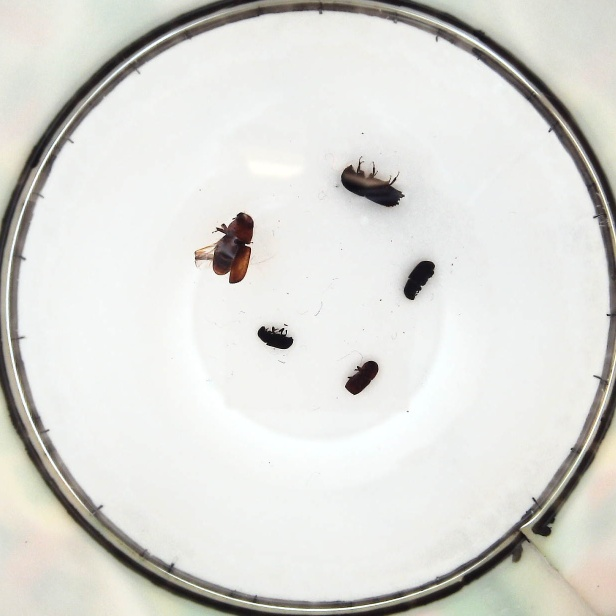armandi: (403, 259, 434, 301)
boerner: (340, 158, 403, 210)
coleoptera: (253, 326, 295, 351)
leconte: (190, 212, 251, 282)
linnaeus: (346, 359, 376, 396)
